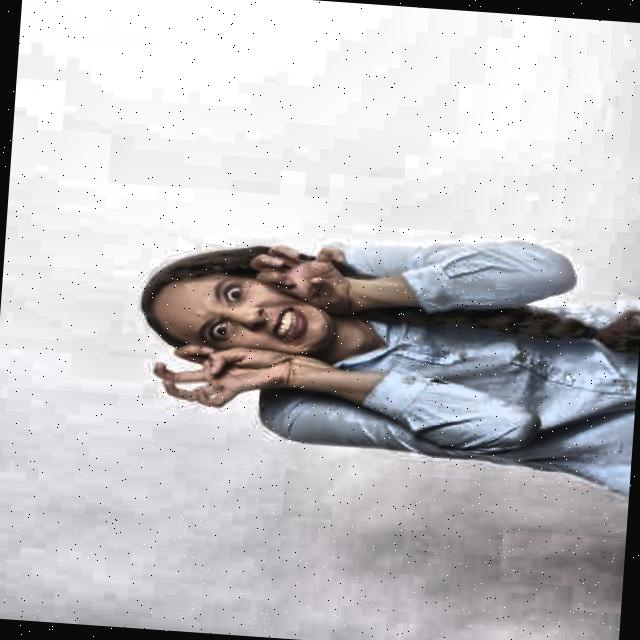angry: (121, 227, 367, 398)
